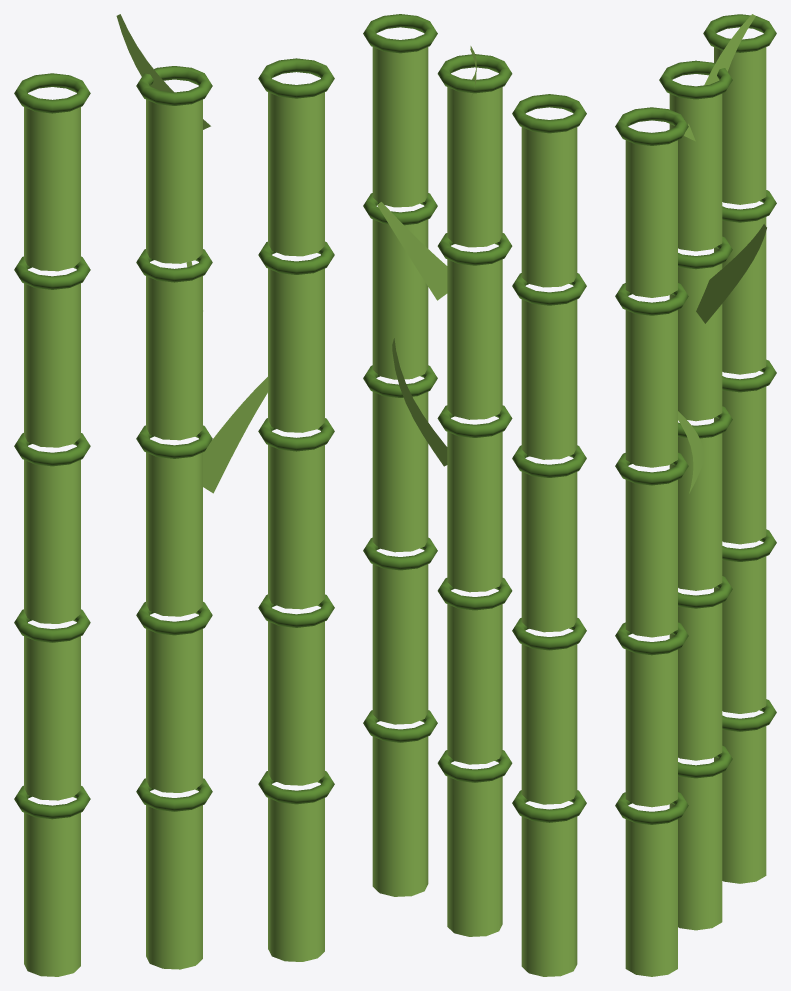
Rendered from bamboo_water.glb.
3 renders of one model, left to right at view 1: azimuth 30°, elevation 25°; view 2: azimuth 150°, elevation 25°; view 3: azimuth 270°, elevation 25°, orthographic. The views are drawn at different scales.
Visible parts, largest first — view 1: bamboo_water; view 2: bamboo_water; view 3: bamboo_water.
Boxes of the visible parts, left/top/right/bottom form: bamboo_water: left=14, top=14, right=334, bottom=976; bamboo_water: left=363, top=14, right=586, bottom=976; bamboo_water: left=615, top=14, right=776, bottom=976.
Bounding box in the file's own units: 0.534 × 1.79 × 0.294.
